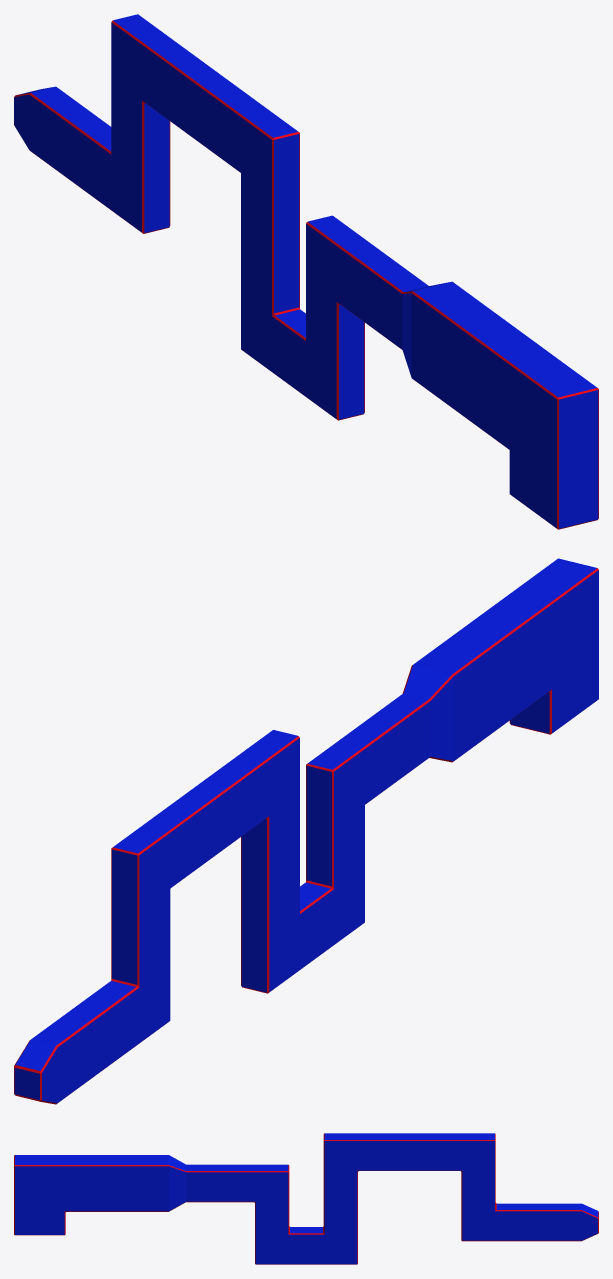
File: L14_Cross_Platform2.fbx
3 renders of one model, top to bottom at view 1: azimuth 30°, elevation 25°; view 2: azimuth 150°, elevation 25°; view 3: azimuth 270°, elevation 25°, orthographic. The views are drawn at different scales.
Parts seen in each view (by area): view 1: L14_Cross_Platform2; view 2: L14_Cross_Platform2; view 3: L14_Cross_Platform2.
Part boxes in pixels (left/top/right/bottom): L14_Cross_Platform2: left=14, top=14, right=598, bottom=529; L14_Cross_Platform2: left=14, top=558, right=598, bottom=1104; L14_Cross_Platform2: left=14, top=1133, right=598, bottom=1264.
Size of the model in its own units: 150 by 800 by 3400.
